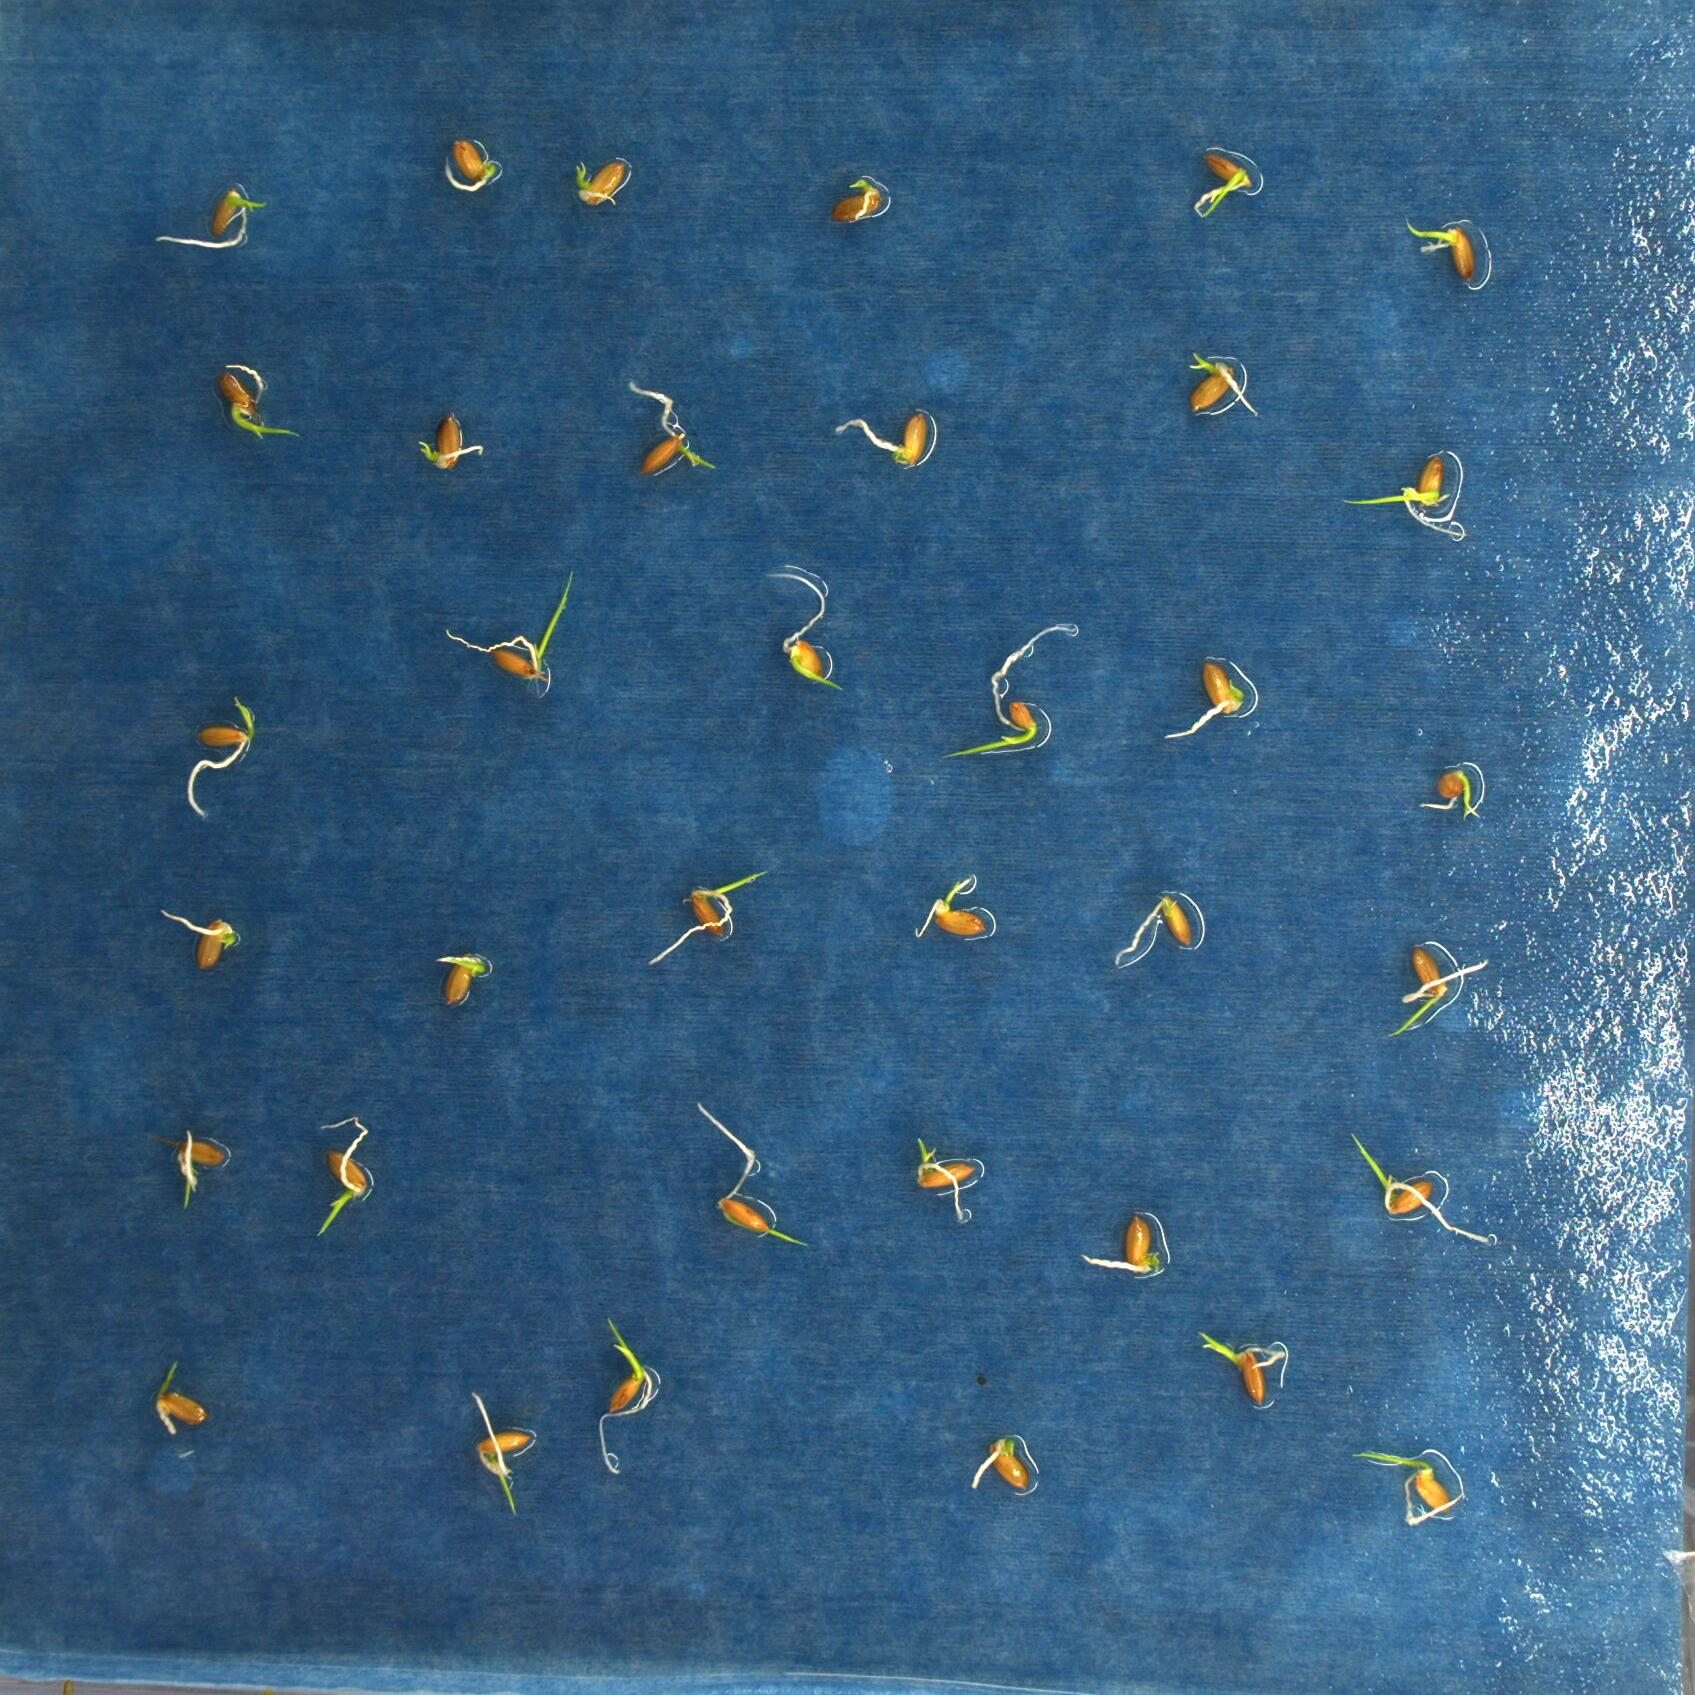not sprout: (1159, 652, 1256, 754), (1107, 879, 1201, 969), (824, 400, 938, 467), (906, 1128, 984, 1225), (1080, 1205, 1163, 1288), (161, 905, 241, 970), (824, 161, 896, 225), (427, 947, 494, 1010), (965, 1426, 1031, 1489), (442, 129, 498, 194)
sprout: (686, 1097, 818, 1267), (1336, 1128, 1499, 1257), (953, 618, 1080, 764), (452, 565, 577, 695), (1343, 450, 1475, 546), (765, 560, 855, 700), (658, 869, 784, 962), (588, 1322, 658, 1476), (310, 1107, 382, 1254), (618, 379, 722, 477), (1343, 1440, 1458, 1529), (1388, 930, 1487, 1031), (182, 692, 261, 816), (467, 1381, 537, 1516), (151, 180, 284, 250), (1191, 1329, 1302, 1409), (1177, 137, 1267, 220), (1177, 349, 1263, 435), (913, 869, 997, 955), (217, 362, 298, 442), (1405, 216, 1489, 290), (144, 1357, 217, 1433), (413, 407, 487, 477), (169, 1122, 230, 1205), (562, 151, 636, 216), (1412, 761, 1487, 821)
